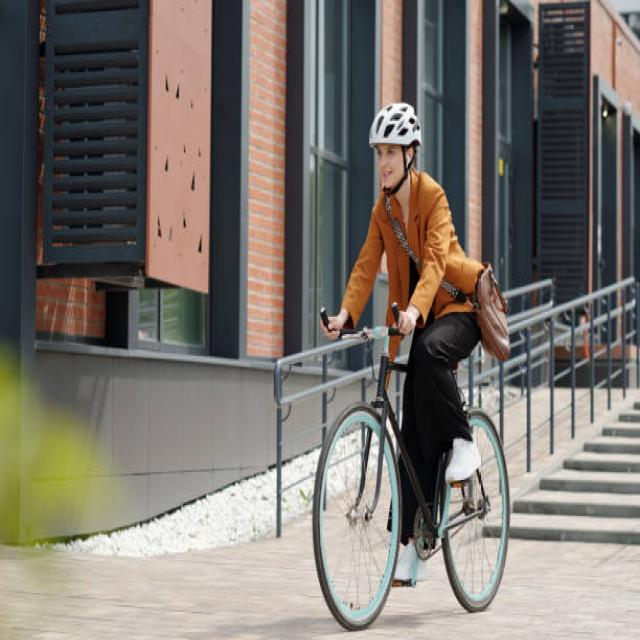bicycle: (312, 103, 509, 628)
